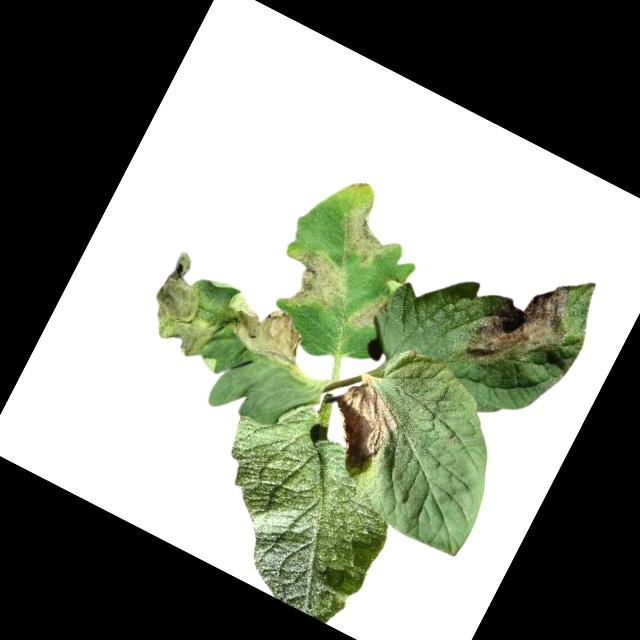Late_blight: (457, 253, 586, 396), (135, 248, 241, 364), (312, 370, 418, 482), (212, 286, 320, 378), (264, 236, 364, 329), (328, 192, 415, 279), (346, 286, 397, 342)
